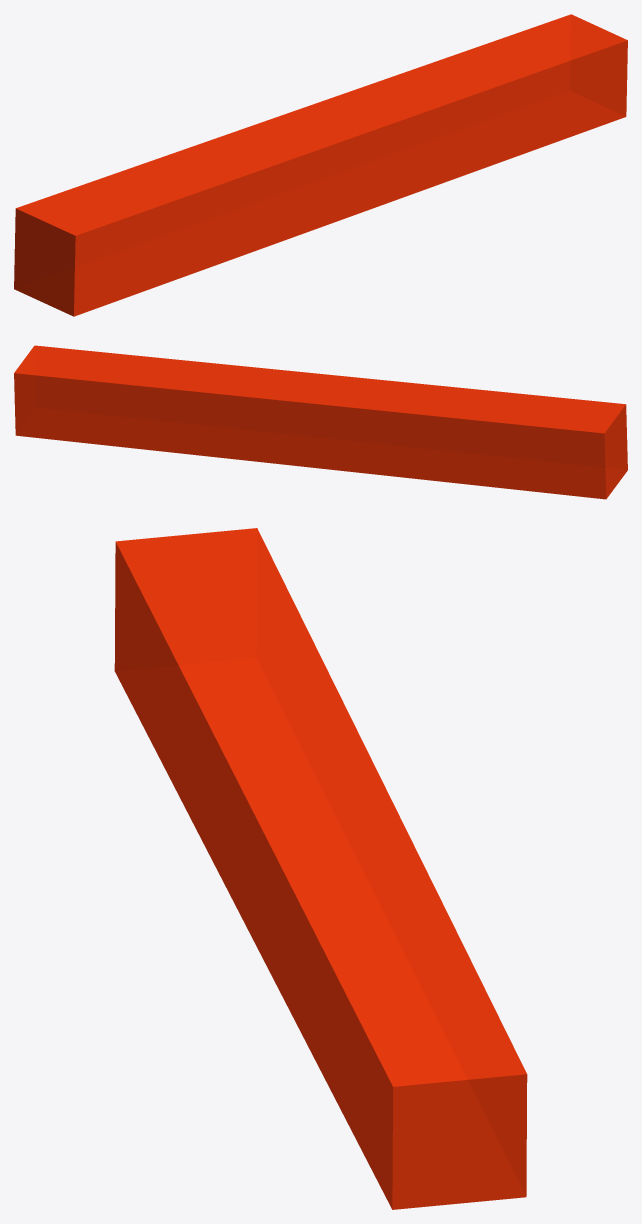
The model's file is Event_421364160_EErechit_12.fbx.
3 views of the same model, one above another, from view 1: azimuth 30°, elevation 25°; view 2: azimuth 150°, elevation 25°; view 3: azimuth 270°, elevation 25° (orthographic). The views are drawn at different scales.
Visible parts, largest first — view 1: Model; view 2: Model; view 3: Model.
Boxes of the visible parts, box(x1,y1,x2,y2) form: Model: box(14, 14, 627, 316); Model: box(14, 345, 627, 499); Model: box(114, 528, 527, 1209).
Size of the model in its own units: 0.6556 by 0.0934 by 0.2178.
